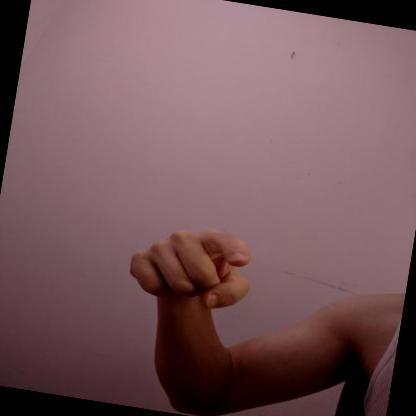Z: (129, 228, 250, 312)
